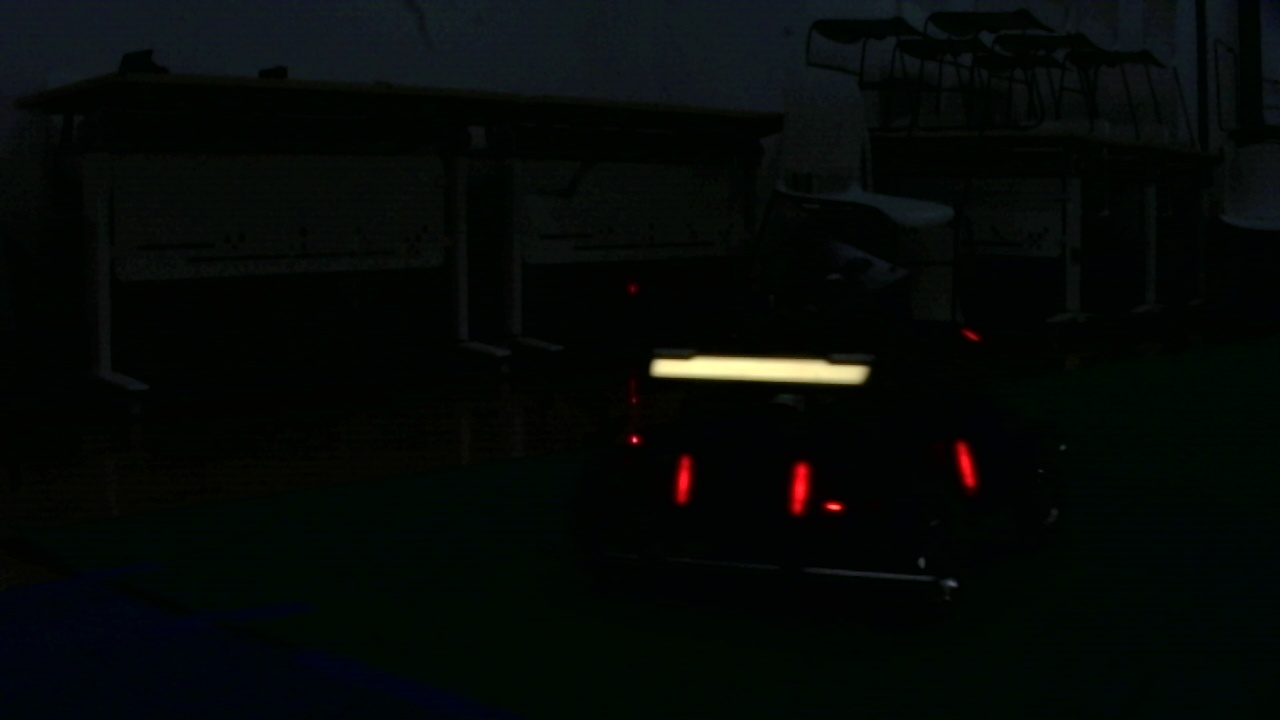lamp: (790, 454, 812, 525), (955, 431, 977, 499), (671, 456, 696, 504)
notpair1: (788, 433, 977, 526)
pair1: (673, 454, 812, 524)
